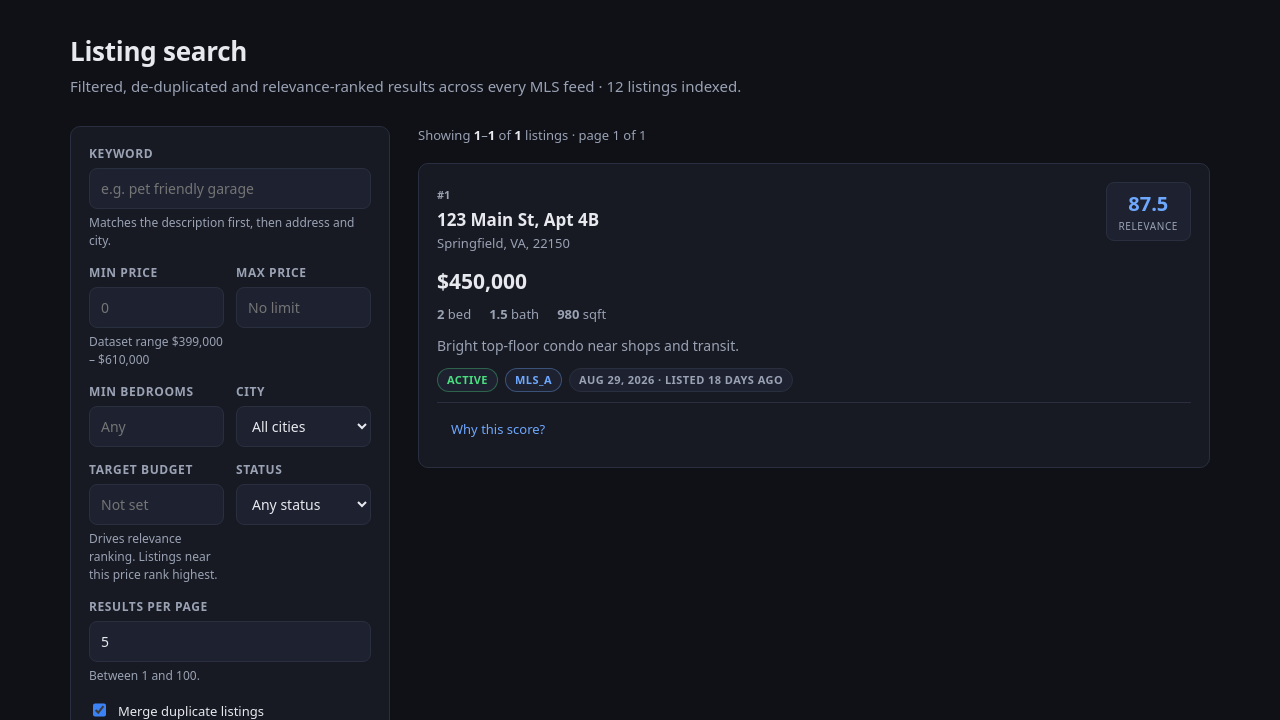
Test case: App — results › explains a score on demand
This screenshot has width=1280, height=720.
Step 1. Click the button "Why this score?" → (498, 430), box [437,411,559,448]
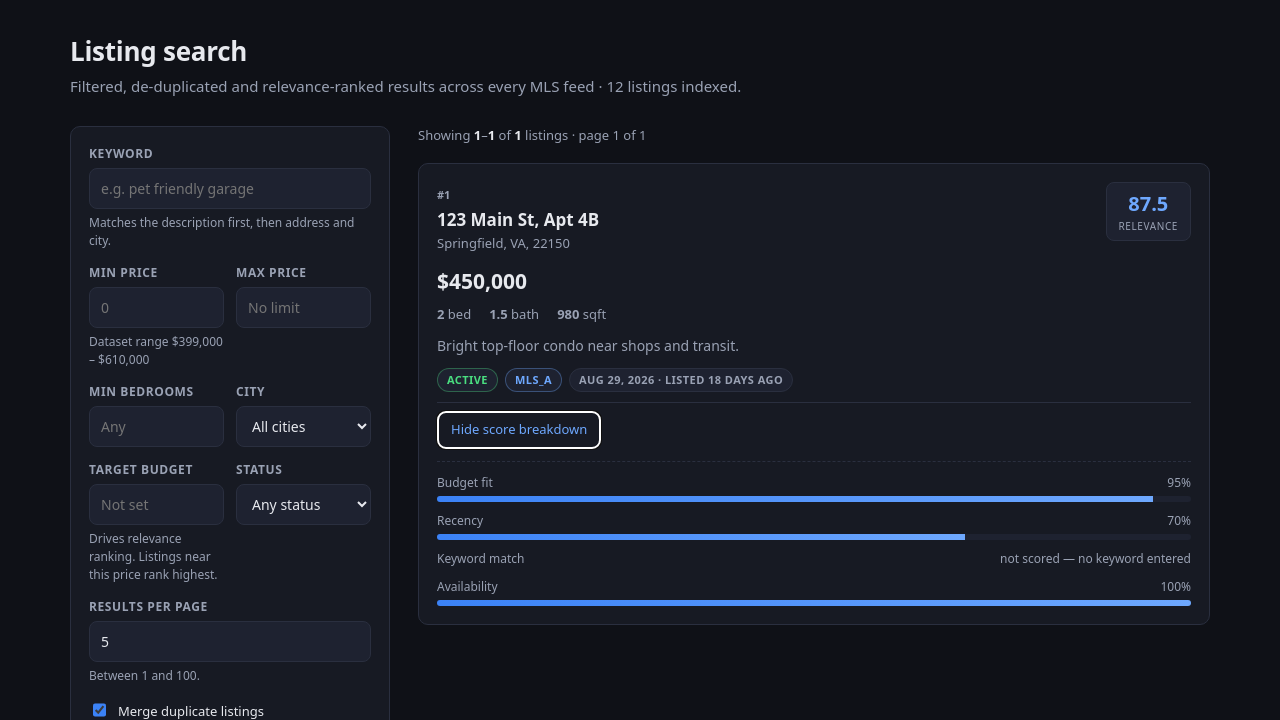
Now the element named "budget fit" is shown, box [437,496,1191,502]
Now the text "not scored — no keyword entered" is shown, box [1000,550,1191,568]
